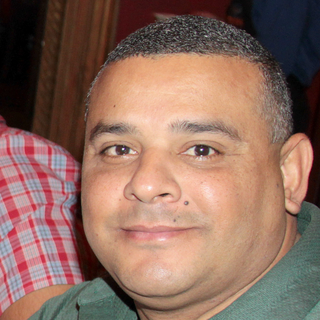eye: (174, 139, 228, 163), (94, 140, 143, 165)
